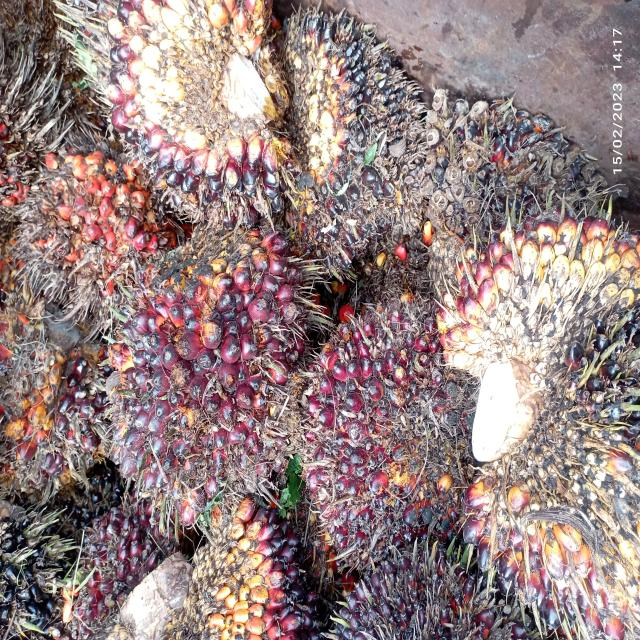fraksi 00: (58, 0, 306, 238), (266, 0, 452, 284), (168, 486, 322, 640)
fraksi 1: (81, 167, 328, 562), (289, 282, 466, 569)
fraksi 4: (13, 123, 162, 317)
